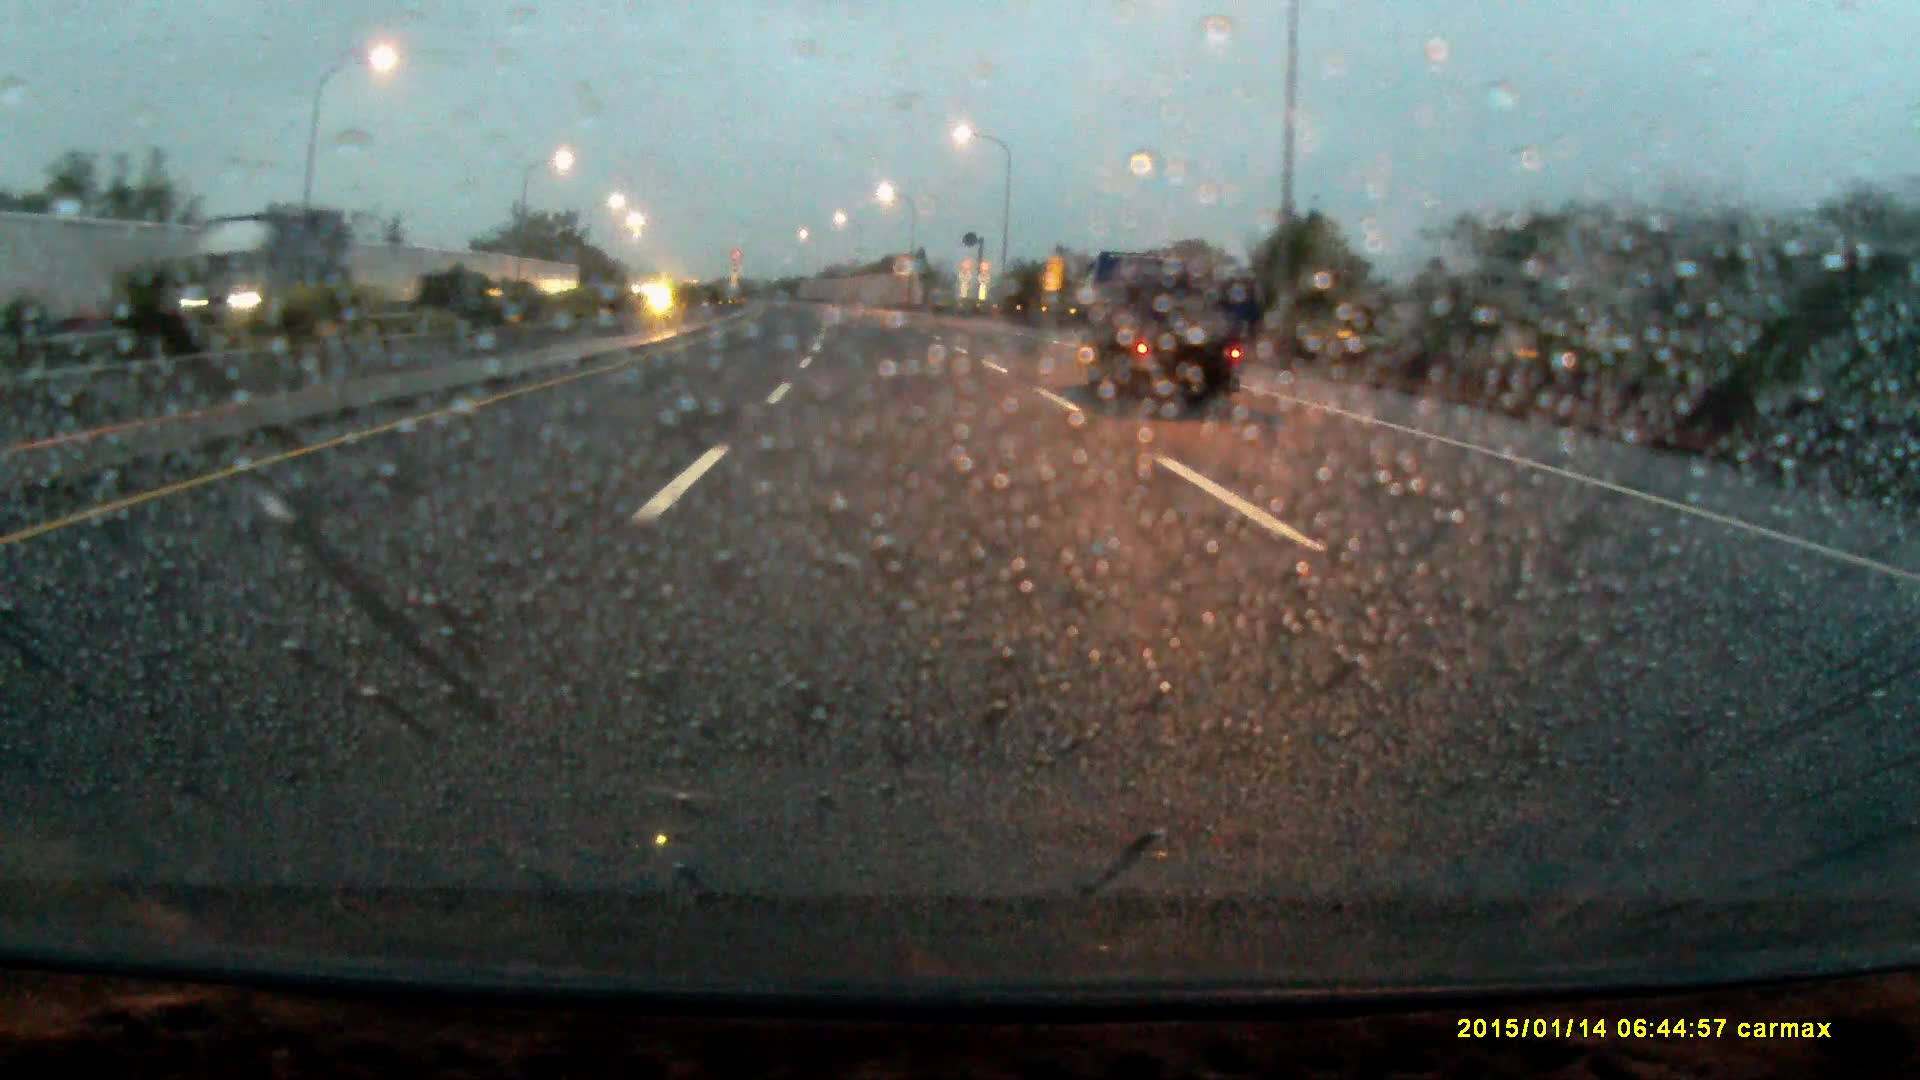vehicle: (1072, 248, 1240, 407), (181, 212, 334, 339)
